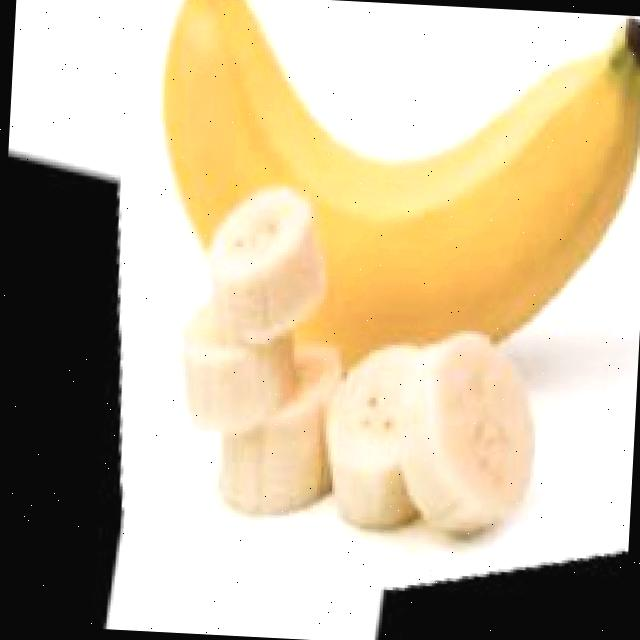banana: (104, 0, 640, 405)
